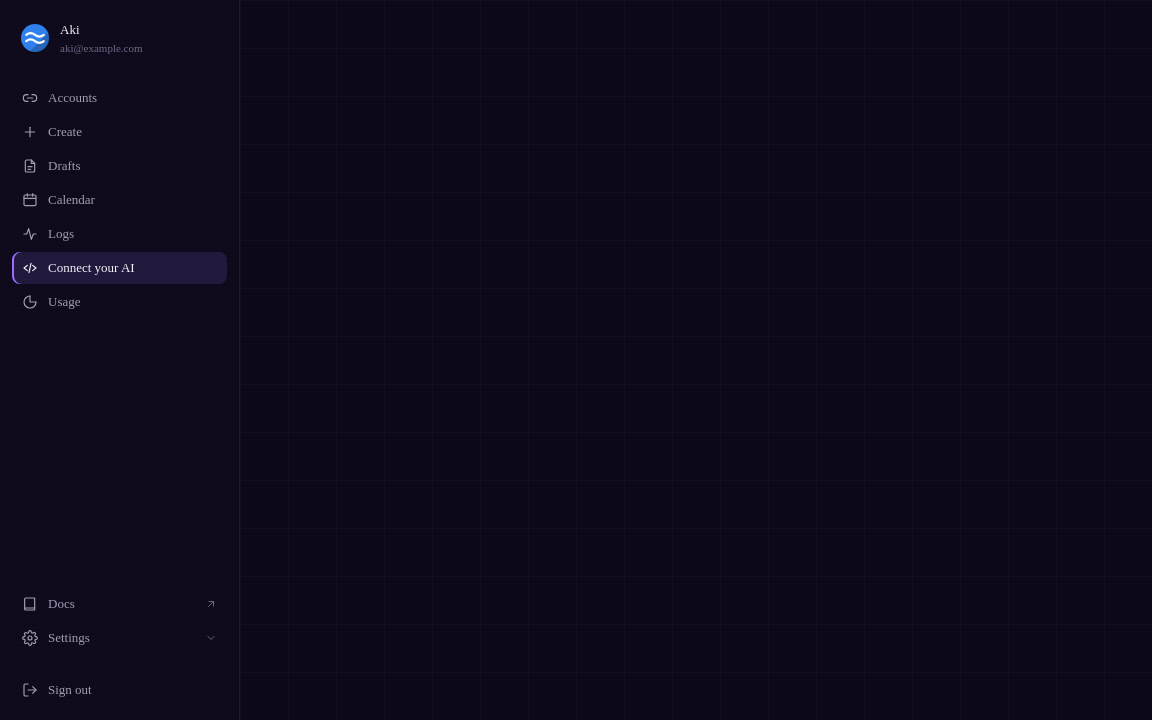
Test: Sidebar › keeps General and Billing in a Settings dropdown, with no phone setup page
The image size is (1152, 720).
Check: the link "Billing" is not shown
Click the button "Settings".
click(120, 638)  # box [12,622,227,654]
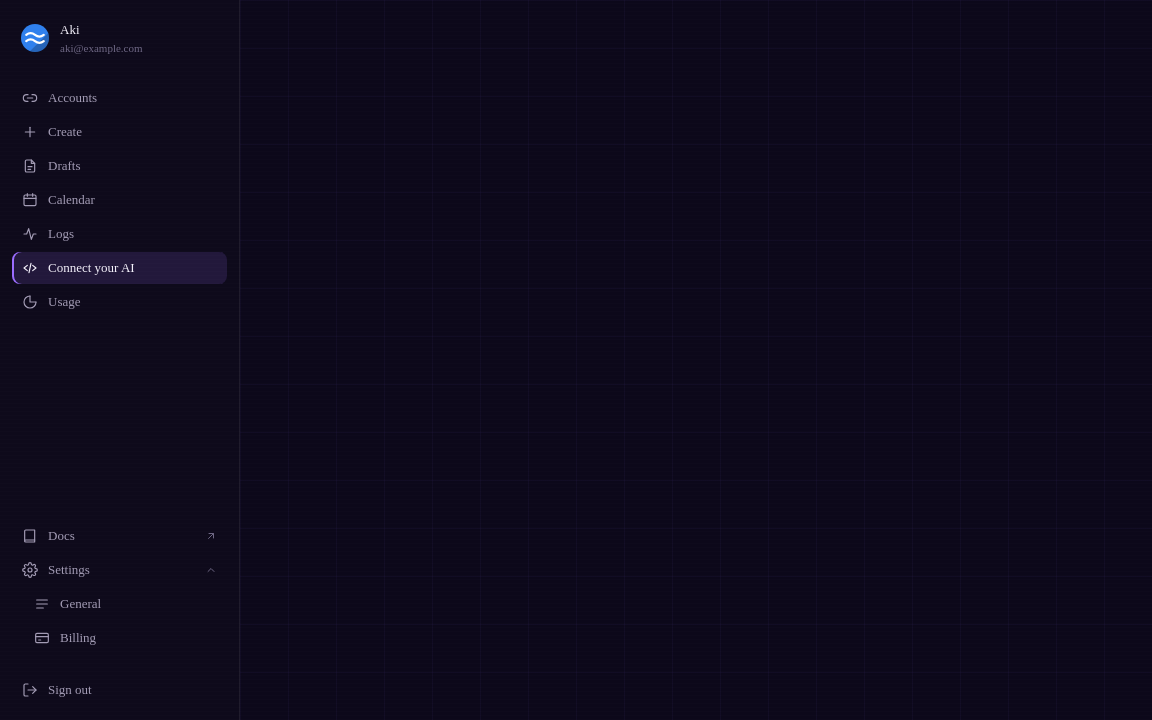
Check: the button "Settings" is expanded, box [12,554,227,586]
